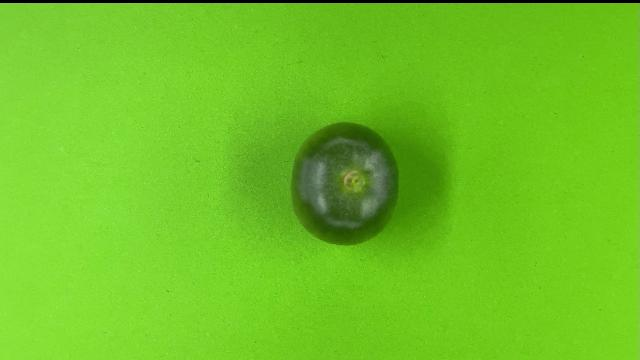Fruit Maturation: (287, 119, 402, 248)
